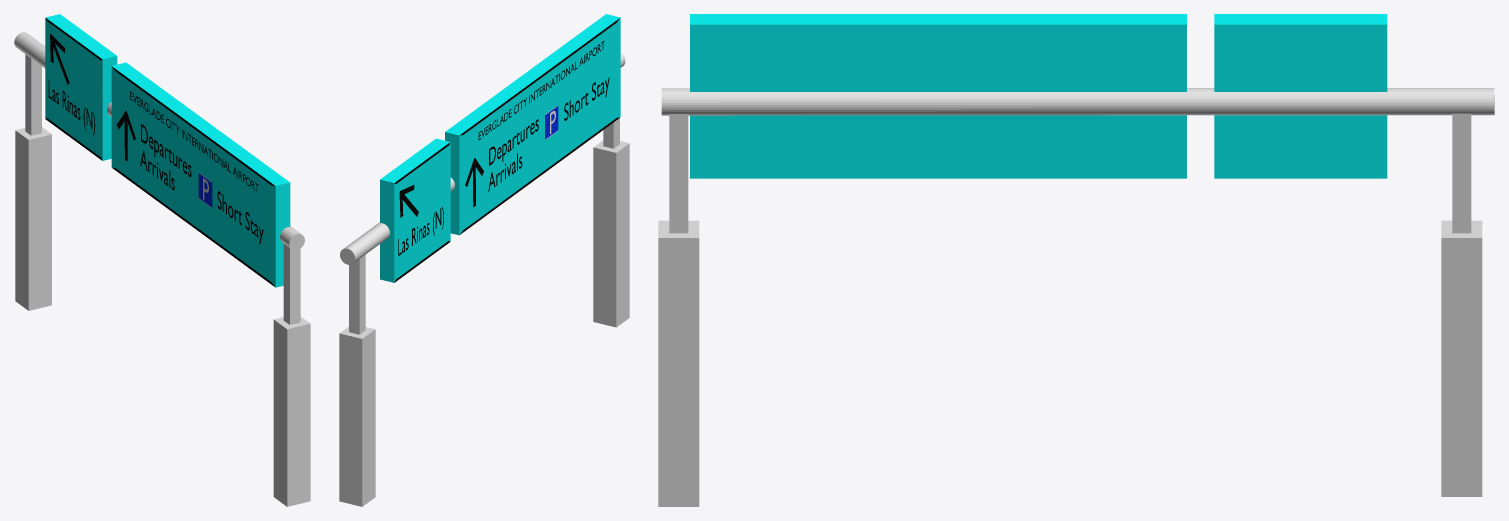
The model's file is ECIA_sign_4.fbx.
The picture shows the model from 3 angles, left to right: view 1: azimuth 30°, elevation 25°; view 2: azimuth 150°, elevation 25°; view 3: azimuth 270°, elevation 25°; orthographic projection. The views are drawn at different scales.
Visible parts, largest first — view 1: Cube.001, Cube.002, Cube, Cube.004, Cylinder, Text.001, Text, Text.006, Text.003, Cube.003; view 2: Cube.001, Cube, Cube.004, Cube.002, Cylinder, Text.001, Text, Text.006, Text.003; view 3: Cube.001, Cube.004, Cylinder, Cube.002, Cube.
Boxes of the visible parts, left/top/right/bottom form: Cube.001: left=111, top=62, right=290, bottom=287; Cube.002: left=273, top=243, right=310, bottom=506; Cube: left=15, top=54, right=51, bottom=310; Cube.004: left=45, top=14, right=117, bottom=160; Cylinder: left=14, top=32, right=304, bottom=250; Text.001: left=140, top=124, right=191, bottom=190; Text: left=130, top=91, right=258, bottom=191; Text.006: left=48, top=80, right=95, bottom=135; Text.003: left=217, top=191, right=263, bottom=244; Cube.003: left=198, top=172, right=212, bottom=207; Cube.001: left=445, top=14, right=620, bottom=235; Cube: left=339, top=255, right=375, bottom=506; Cube.004: left=380, top=138, right=450, bottom=282; Cube.002: left=593, top=118, right=629, bottom=327; Cylinder: left=340, top=52, right=625, bottom=264; Text.001: left=488, top=119, right=538, bottom=191; Text: left=478, top=40, right=604, bottom=140; Text.006: left=398, top=207, right=443, bottom=255; Text.003: left=564, top=77, right=609, bottom=120; Cube.001: left=690, top=14, right=1186, bottom=178; Cube.004: left=1214, top=14, right=1387, bottom=178; Cylinder: left=661, top=88, right=1494, bottom=115; Cube.002: left=658, top=114, right=699, bottom=506; Cube: left=1441, top=113, right=1482, bottom=496.
Size of the model in its own units: 6.43 by 76.97 by 123.
